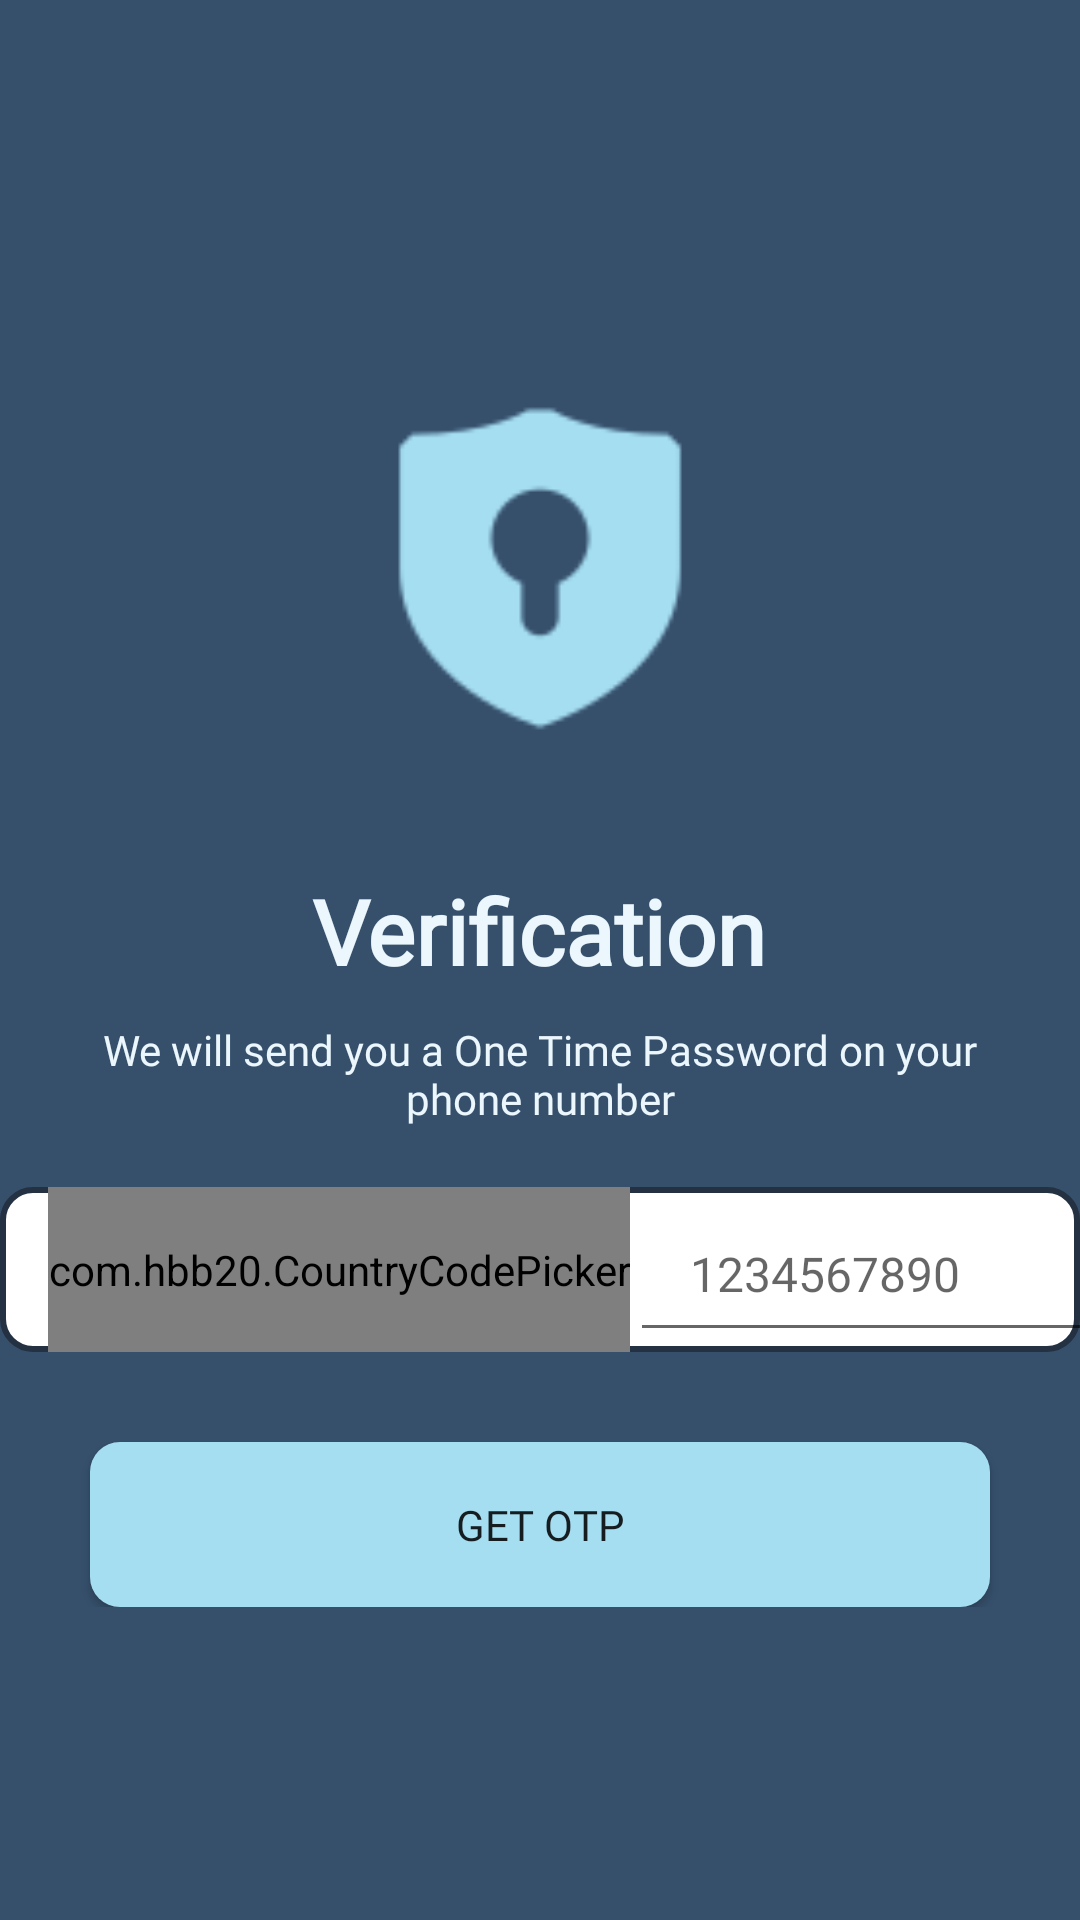

Screen size 1080 × 1920. Icon name, then its center in pixels as [x,y]:
shieldwithlock: [540,568]
